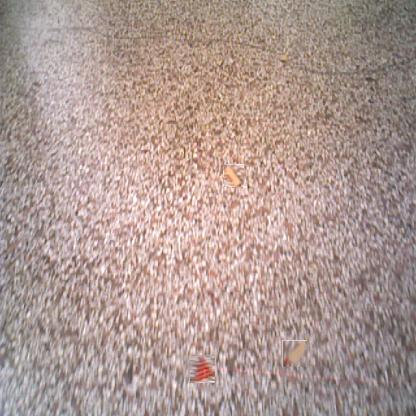dirty: (189, 355, 215, 382), (282, 340, 307, 367), (224, 165, 245, 187), (214, 57, 224, 67), (278, 52, 288, 62)
